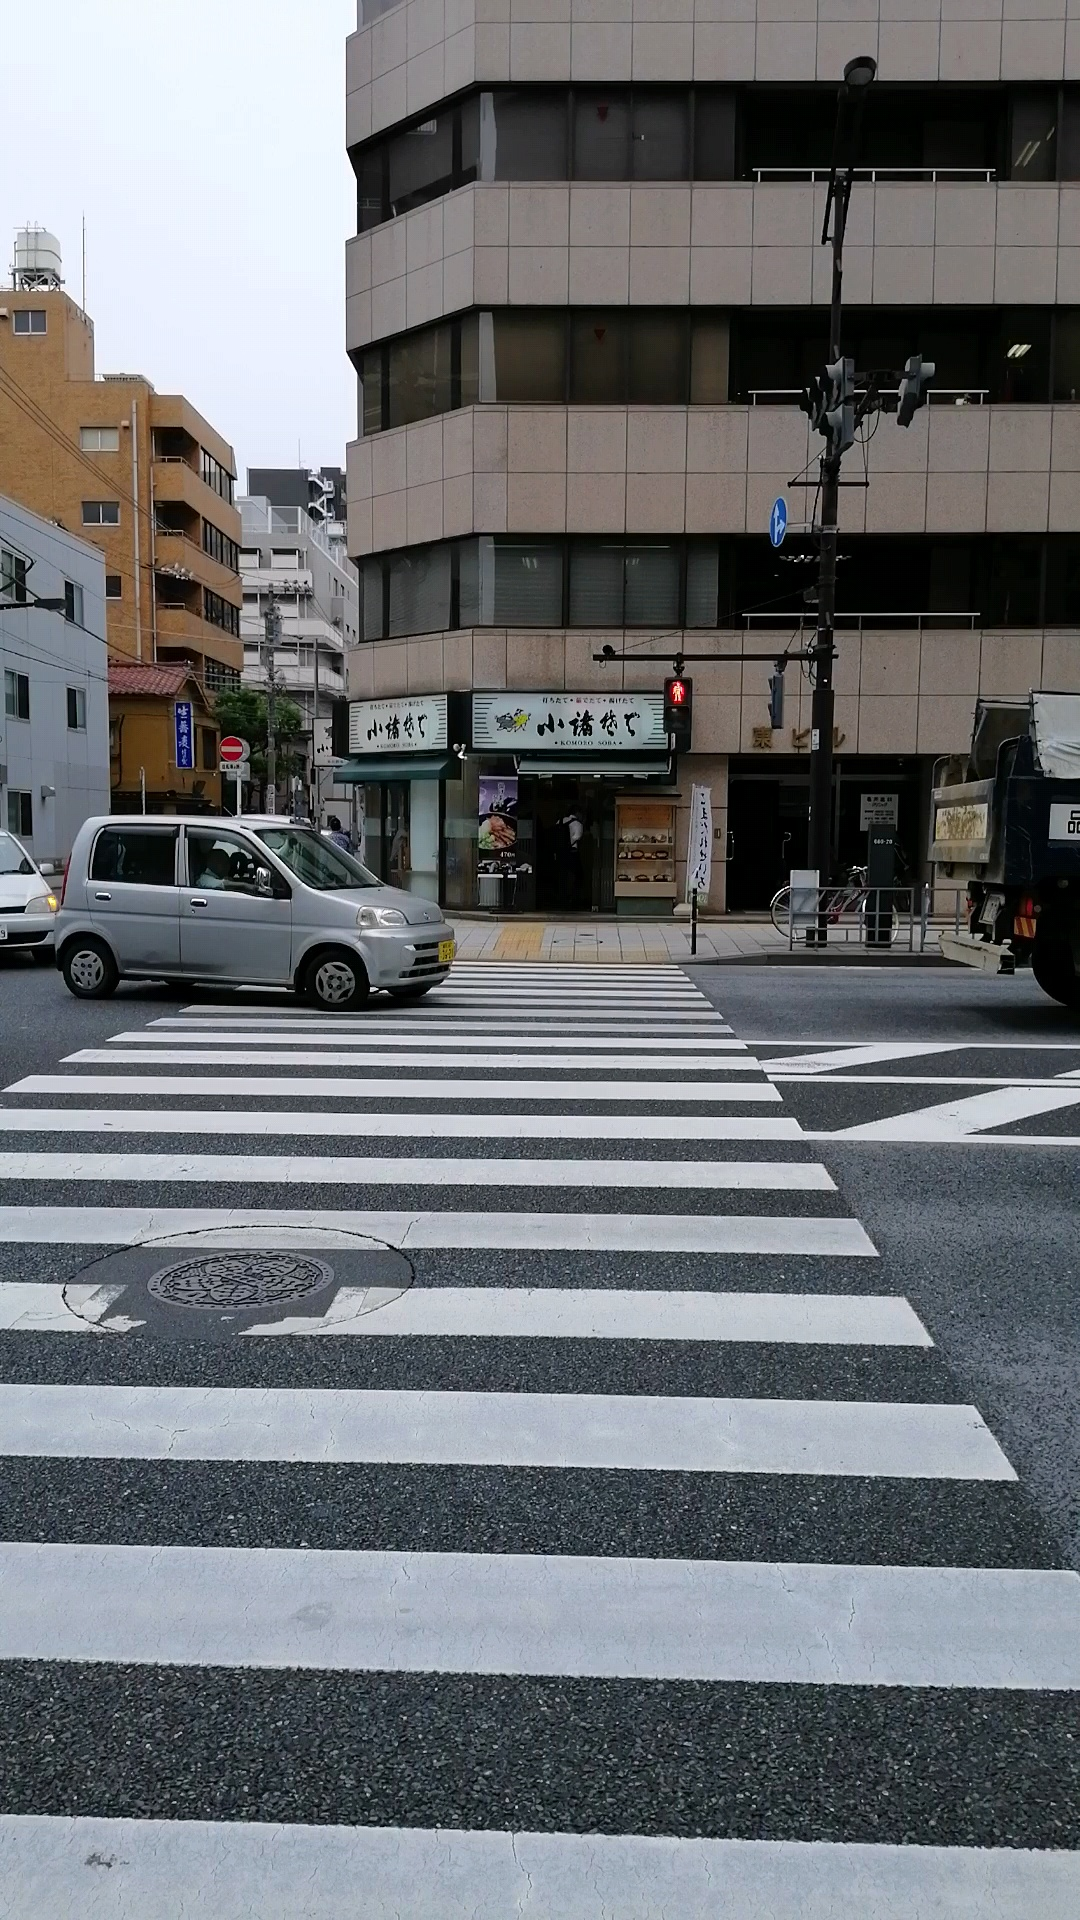red: (663, 676, 692, 733)
